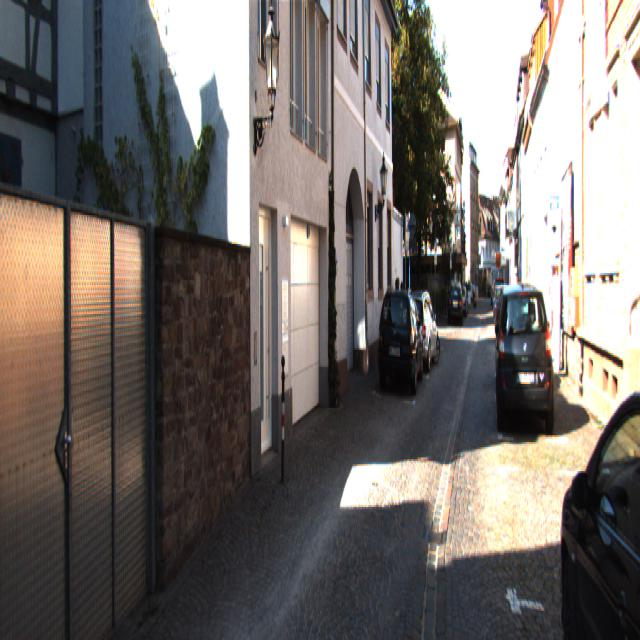Car: (554, 366, 640, 638), (495, 279, 557, 443), (376, 286, 426, 393), (398, 288, 440, 372), (494, 284, 516, 342), (447, 282, 463, 324)
